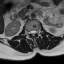CCS_normal: (32, 28, 34, 37)
LFS_normal: (36, 27, 38, 35)
LLS_normal: (34, 29, 36, 36)
RFS_normal: (27, 29, 30, 36)
RLS_normal: (30, 29, 32, 36)
